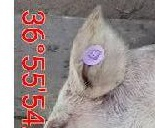text: (77, 40, 111, 68)
